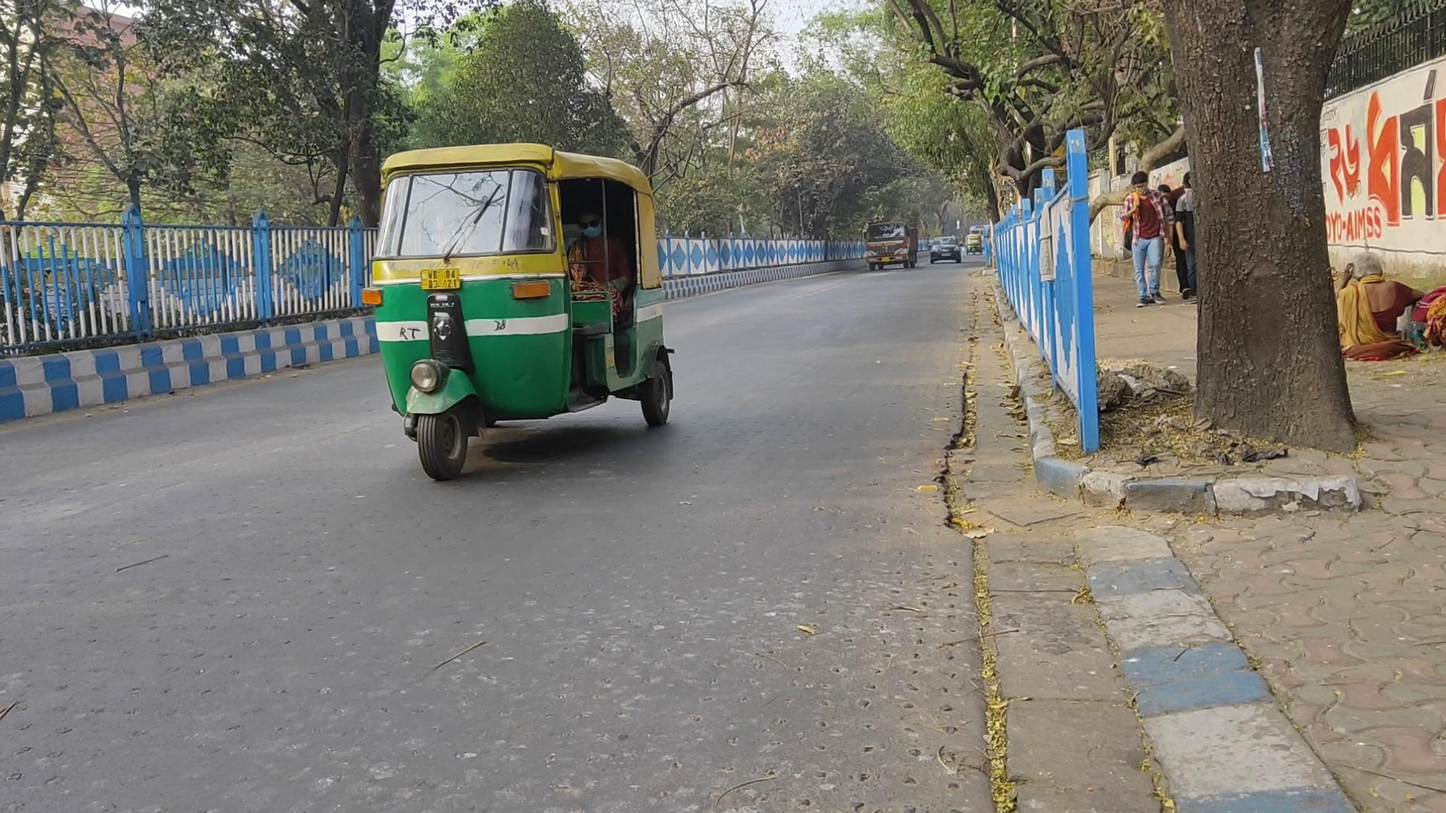Auto: (361, 142, 676, 481), (965, 234, 983, 256)
car: (928, 236, 962, 264)
van: (865, 223, 919, 271)
